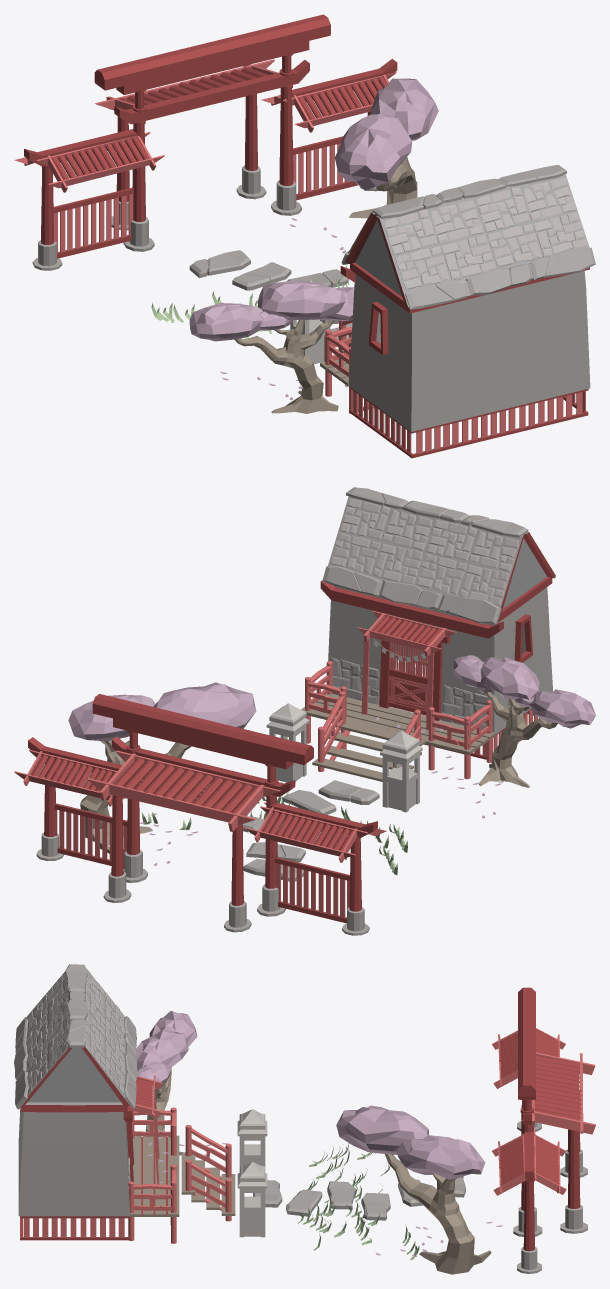
The model's file is ER_Asset_Aal'sHouse.fbx.
The picture shows the model from 3 angles, top to bottom: view 1: azimuth 30°, elevation 25°; view 2: azimuth 150°, elevation 25°; view 3: azimuth 270°, elevation 25°; orthographic projection. The views are drawn at different scales.
Parts seen in each view (by area): view 1: polySurface6459; view 2: polySurface6459; view 3: polySurface6459.
Boxes of the visible parts, x1=… form: polySurface6459: x1=14, y1=14, x2=595, y2=458; polySurface6459: x1=14, y1=487, x2=595, y2=935; polySurface6459: x1=14, y1=964, x2=595, y2=1274.
Bounding box in the file's own units: 11.05 × 6.05 × 15.65.
